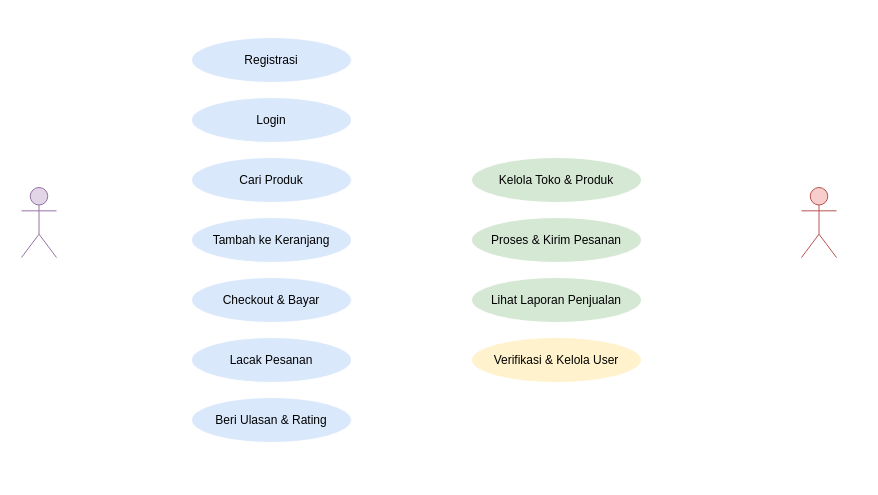
This 878x495 diagram has some shape labels left out. The shapes that lost their labels are listed below. From the top down, each one's centre as x and y in pixels, then its label:
point 38,222: Pembeli
point 818,222: Penjual / Admin
